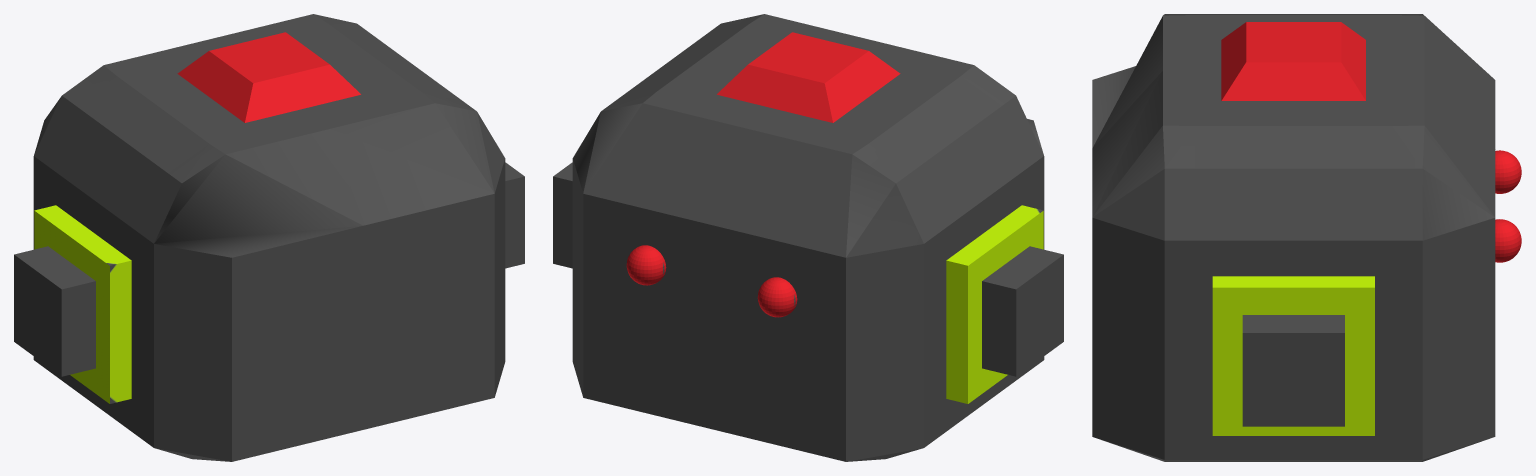
Rendered from enemy.obj.
The picture shows the model from 3 angles, left to right: view 1: azimuth 30°, elevation 25°; view 2: azimuth 150°, elevation 25°; view 3: azimuth 270°, elevation 25°; orthographic projection. The views are drawn at different scales.
Visible parts, largest first — view 1: Cube.001; view 2: Cube.001; view 3: Cube.001.
Boxes of the visible parts, x1,y1,x2,y2 form: Cube.001: [14, 14, 524, 461]; Cube.001: [553, 14, 1063, 461]; Cube.001: [1092, 14, 1521, 461].
Bounding box in the file's own units: 3.53 × 2.38 × 2.64.
1 material, 1 textured.
